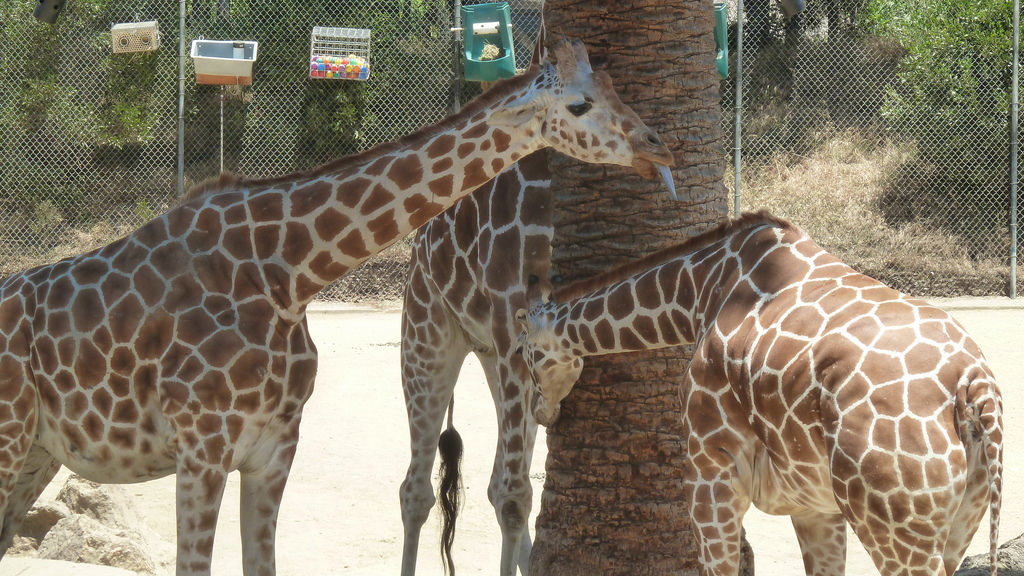giraffe: (12, 42, 697, 558), (524, 211, 1009, 565)
